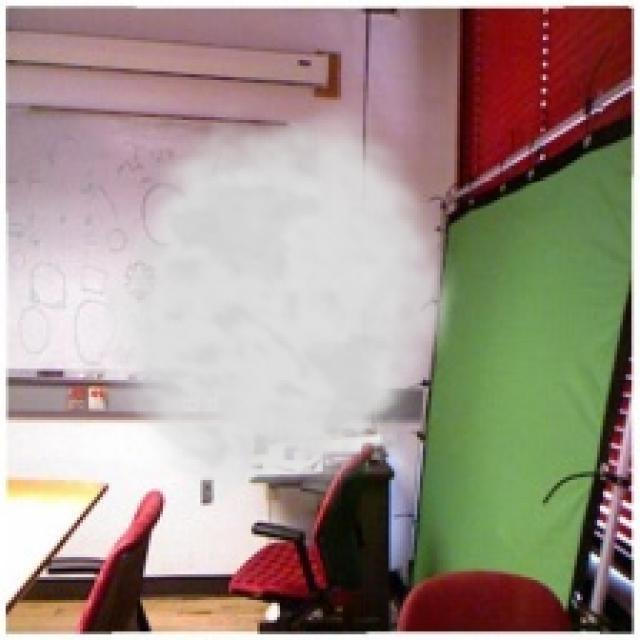Smoke: (83, 91, 466, 512)
